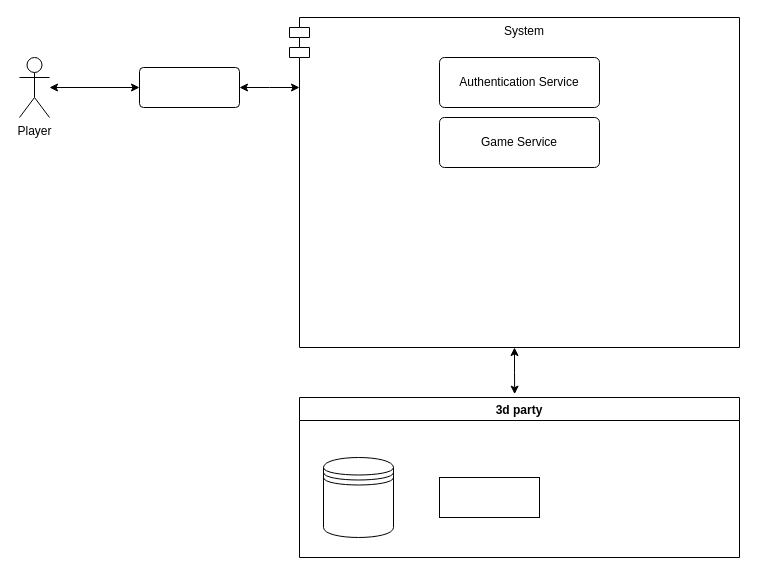
This 757x575 diagram has some shape labels left out. The shapes that lost their labels are listed below. From the top down, each one's centre as x and y in pixels, then its label:
At pixel 189 87: "PlayerBFF".
At pixel 358 497: "DB".
At pixel 489 497: "MQ".
